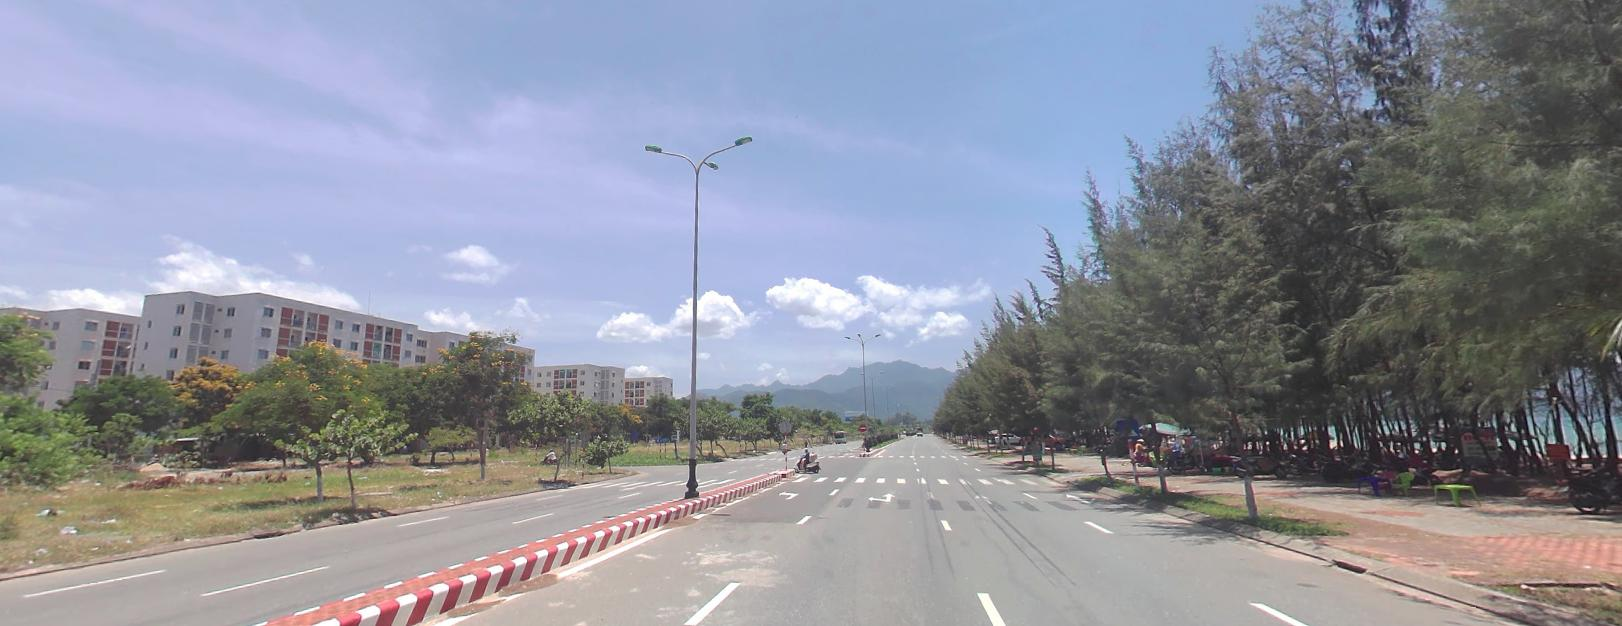Cam nguoc chieu: (859, 423, 866, 430)
